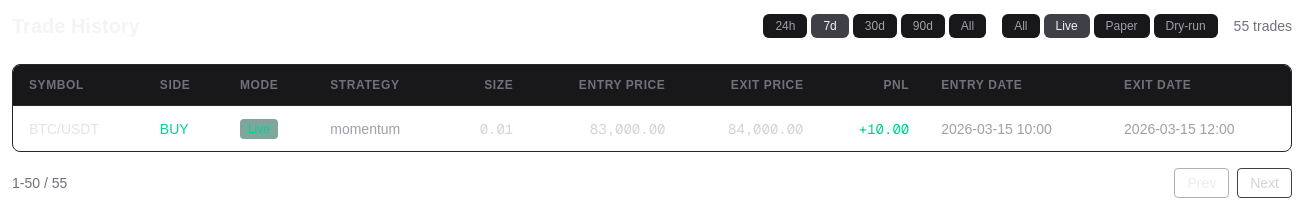
it: Trades — pagination edge cases › Next button disabled on last page
Click the button "Next": (1265, 183) x1=1237 y1=168 x2=1292 y2=198
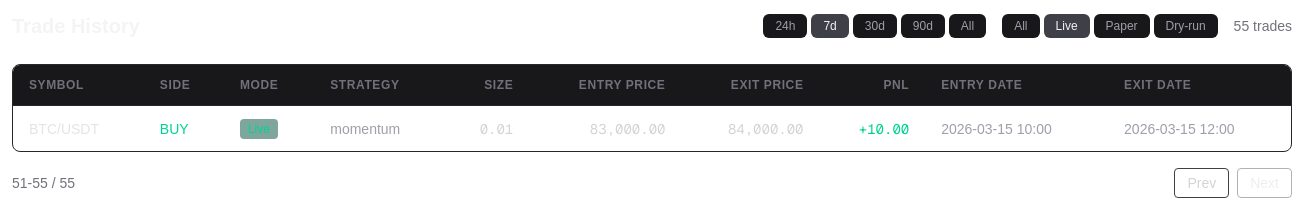
Expected: the button "Next" is disabled, x1=1237 y1=168 x2=1292 y2=198
